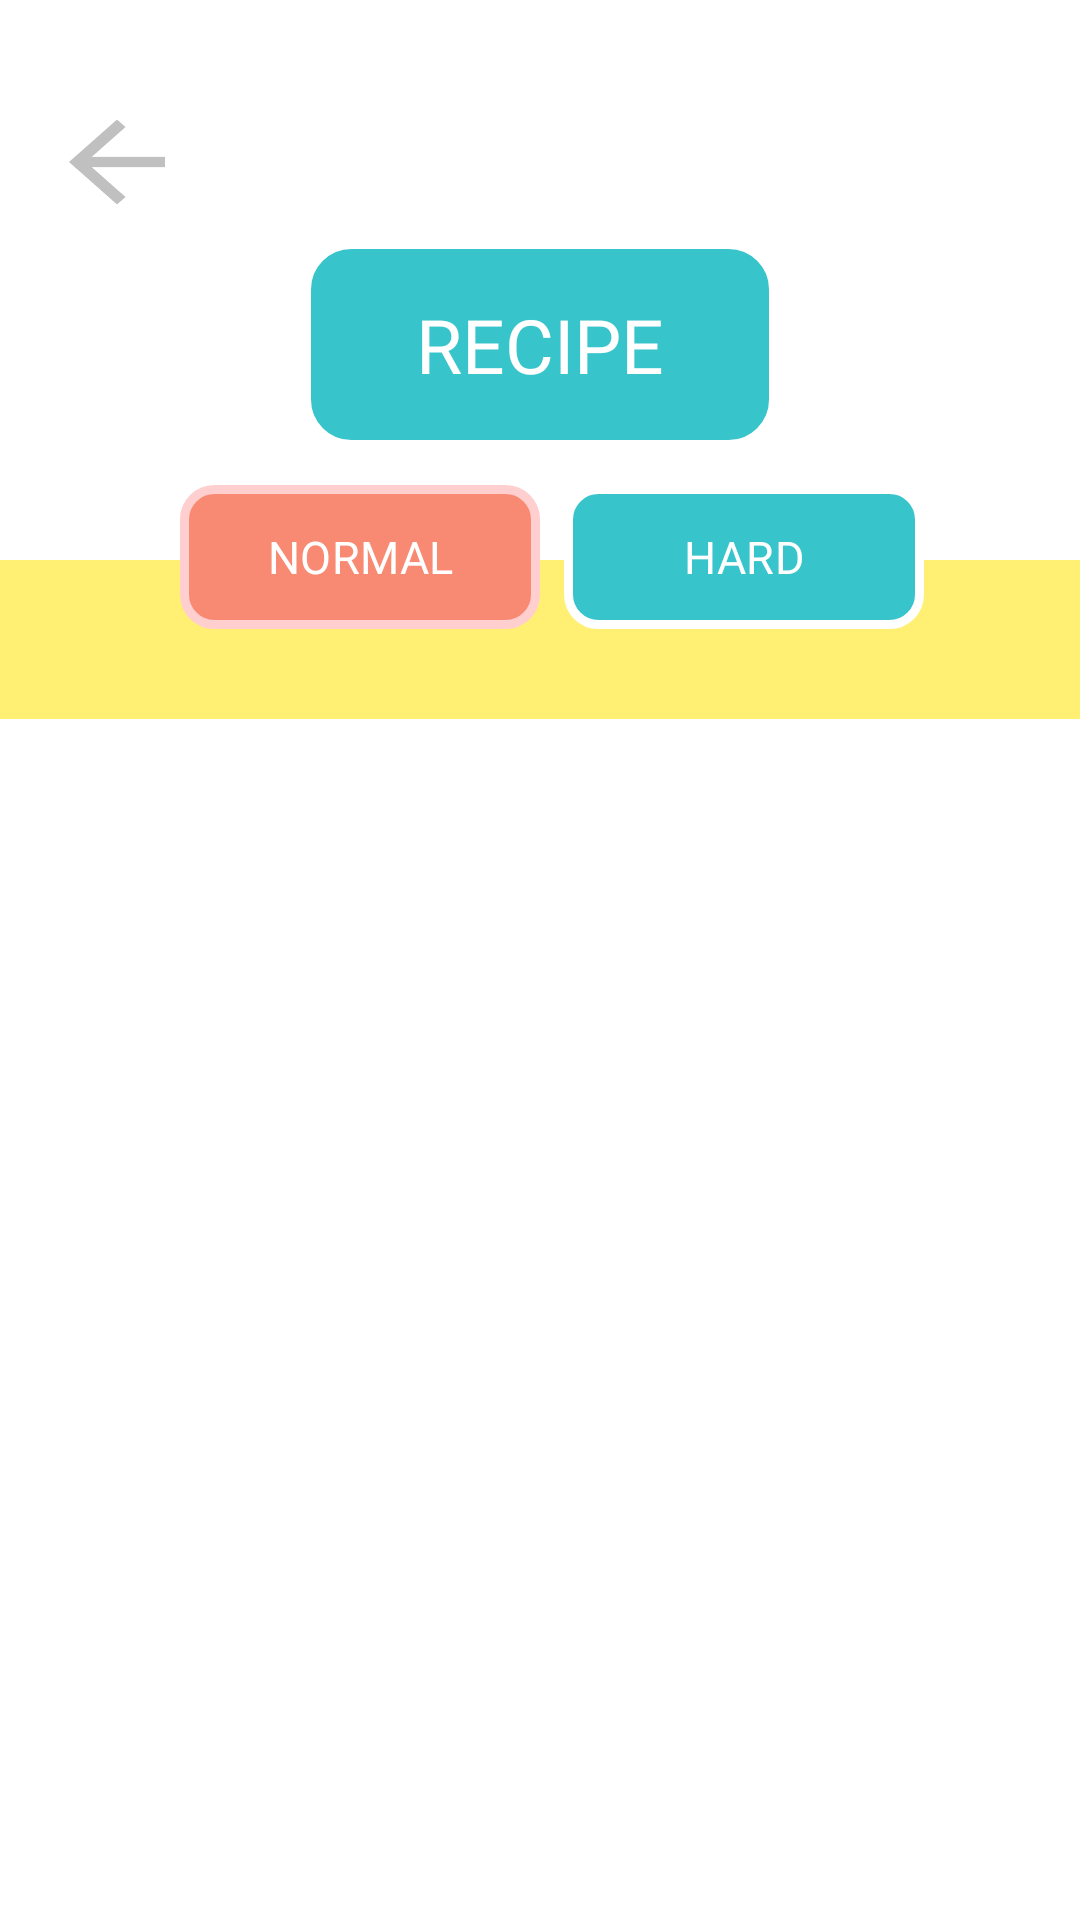

Named icons in this screenshot (1080px×1920px) and their bounding boxes, box(x1, y1, x2, y2):
back: box(69, 120, 165, 204)
